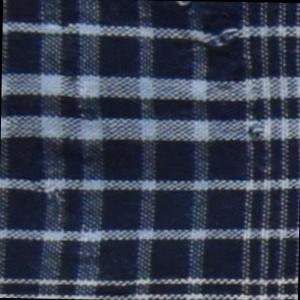Damage: (165, 2, 287, 145), (34, 174, 91, 238)
